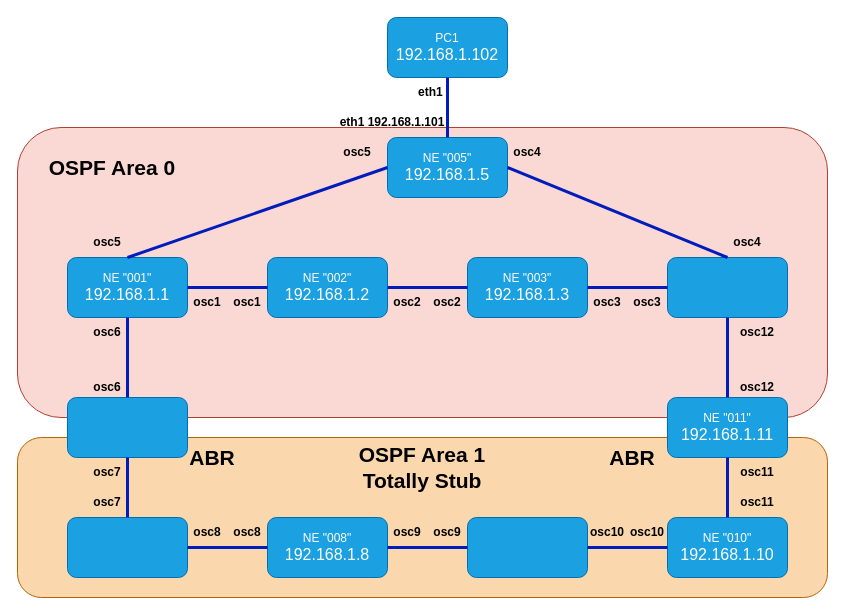
Image size: 845x615. Some labels were removed from this diagram. Each missing label, with the centre of its shape:
NE "004" 192.168.1.4: (727,287)
NE "006" 192.168.1.6: (127,427)
NE "007" 192.168.1.7: (127,547)
NE "009" 192.168.1.9: (527,547)
